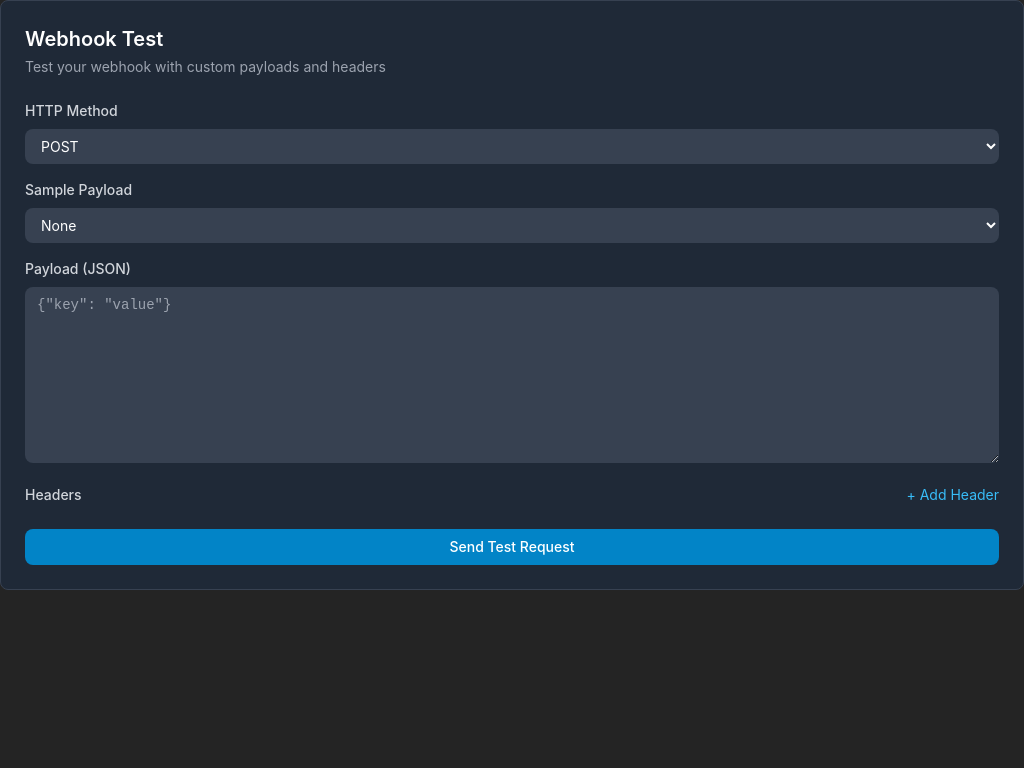
WebhookTestPanel › Send Test Request › should disable form fields while sending
Click the button "Send Test Request" at (512, 547), box 25,529 -> 999,565
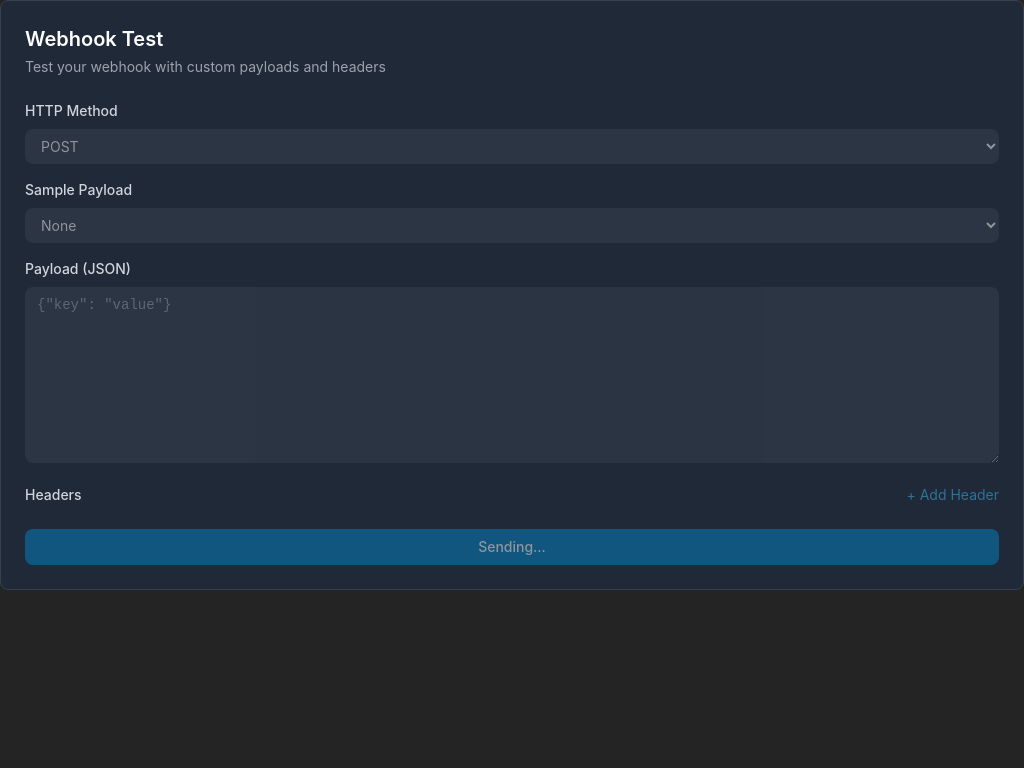
Now the dropdown labelled "HTTP Method" is disabled, box 25,129 -> 999,164
Now the text box labelled "Payload (JSON)" is disabled, box 25,287 -> 999,463
